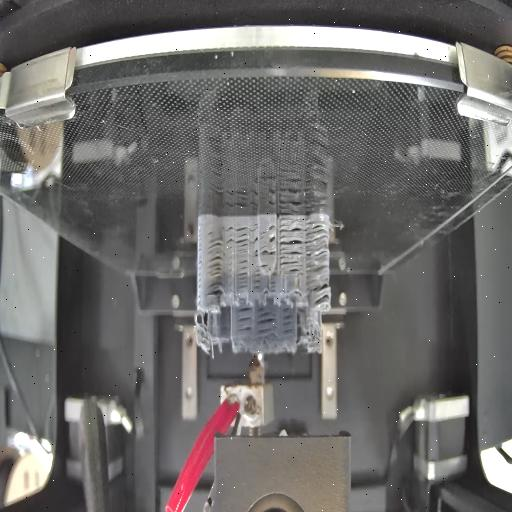cracks: (305, 220, 329, 276), (206, 239, 224, 300), (280, 217, 303, 256), (224, 224, 248, 252), (256, 306, 276, 336), (308, 281, 330, 307), (234, 306, 252, 334), (280, 306, 294, 334), (280, 260, 300, 276), (238, 258, 248, 290), (250, 222, 258, 258), (252, 268, 262, 290), (266, 222, 276, 244), (270, 270, 277, 294), (260, 248, 276, 256), (260, 262, 268, 269)
